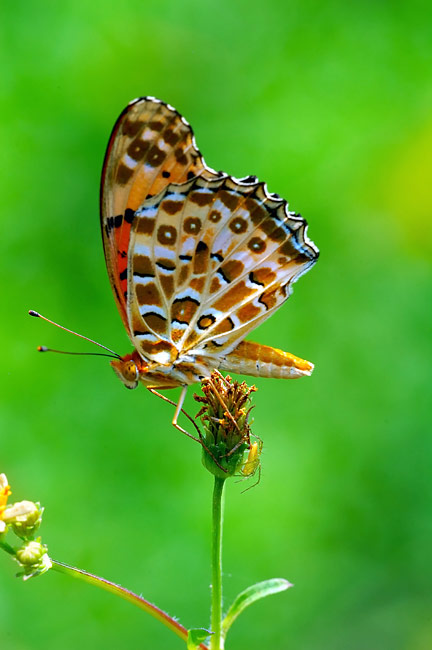Argyreus hyperbius: (27, 90, 319, 467)
butterfly: (29, 92, 321, 469)
